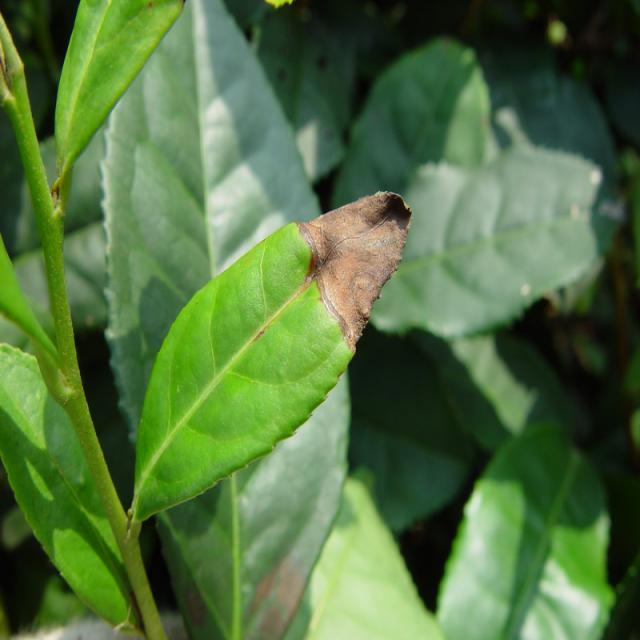Tea cloud leaf blight: (268, 163, 414, 355)
